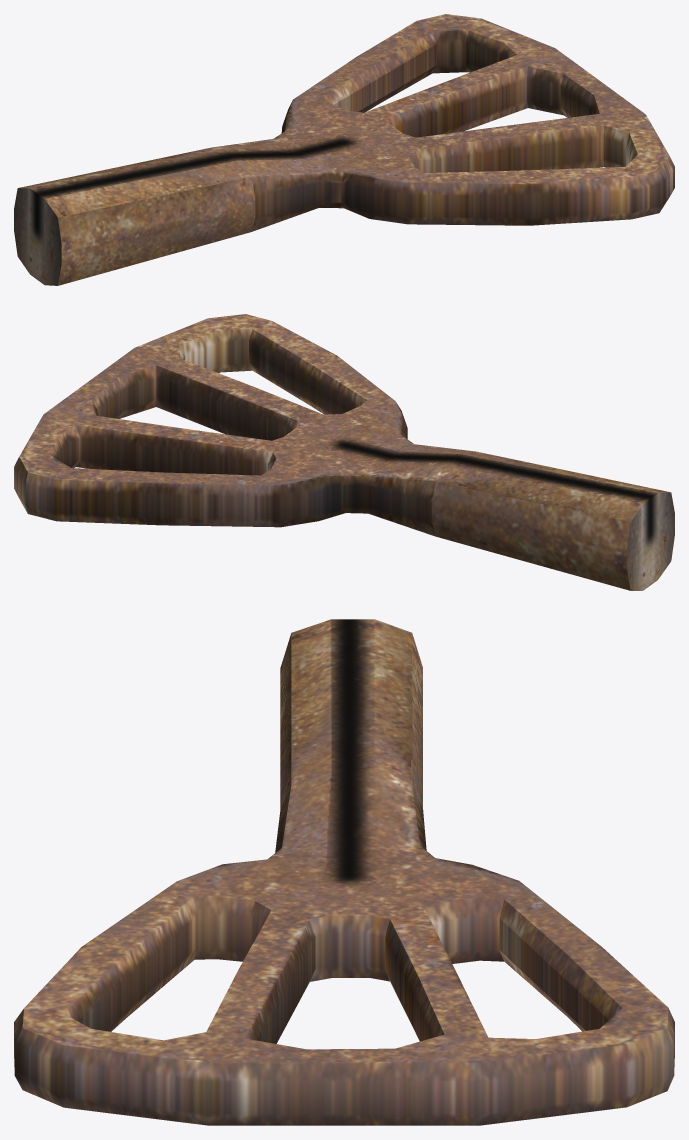
File: KeyUpper.fbx
3 renders of one model, top to bottom at view 1: azimuth 30°, elevation 25°; view 2: azimuth 150°, elevation 25°; view 3: azimuth 270°, elevation 25°, orthographic. The views are drawn at different scales.
Visible parts, largest first — view 1: KeyUpper; view 2: KeyUpper; view 3: KeyUpper.
Part boxes in pixels (x1=…): KeyUpper: x1=14, y1=14, x2=674, y2=285; KeyUpper: x1=14, y1=314, x2=674, y2=590; KeyUpper: x1=14, y1=619, x2=674, y2=1125.
Bounding box in the file's own units: 52.55 × 7.67 × 35.47.
